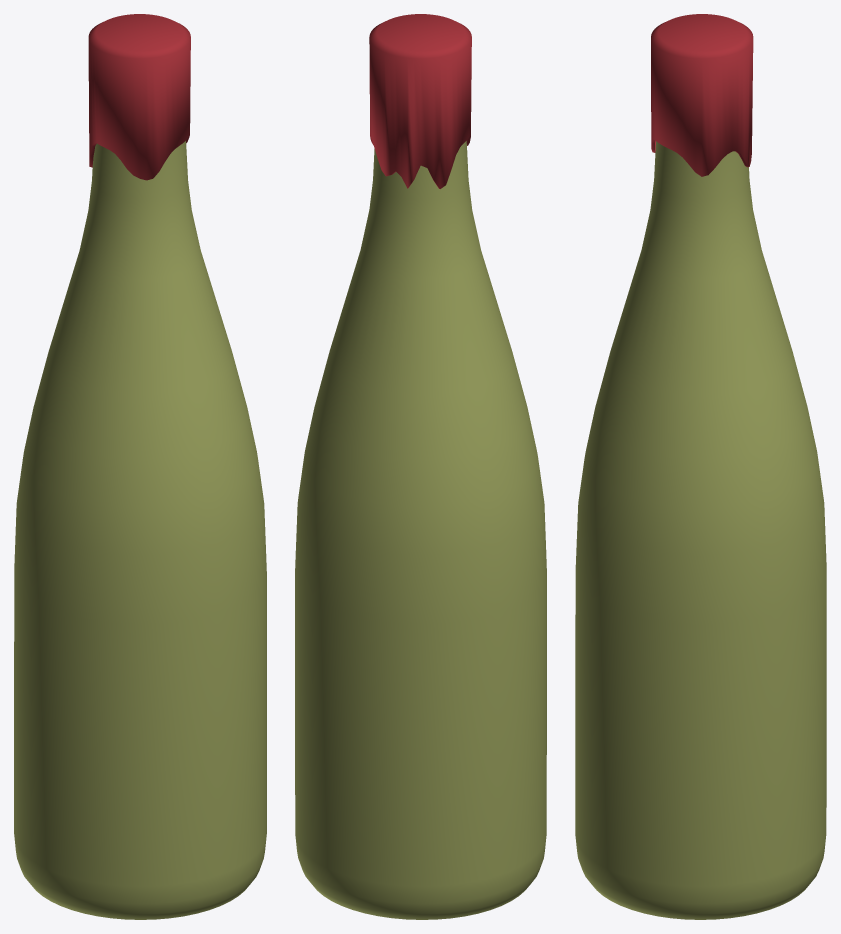
File: bottle_burgundy.glb
3 renders of one model, left to right at view 1: azimuth 30°, elevation 25°; view 2: azimuth 150°, elevation 25°; view 3: azimuth 270°, elevation 25°, orthographic.
Visible parts, largest first — view 1: Glass, Cap; view 2: Glass, Cap; view 3: Glass, Cap.
Part boxes in pixels (left/top/right/bottom): Glass: left=14, top=141, right=266, bottom=919; Cap: left=88, top=14, right=190, bottom=180; Glass: left=295, top=141, right=546, bottom=919; Cap: left=369, top=14, right=471, bottom=188; Glass: left=575, top=141, right=826, bottom=919; Cap: left=651, top=14, right=753, bottom=176.
Size of the model in its own units: 0.0809 by 0.2977 by 0.0806.
